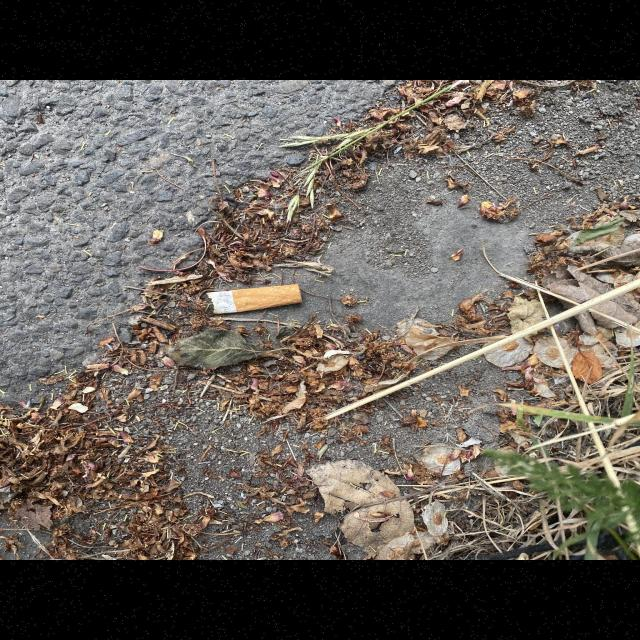other waste: (205, 284, 302, 315)
